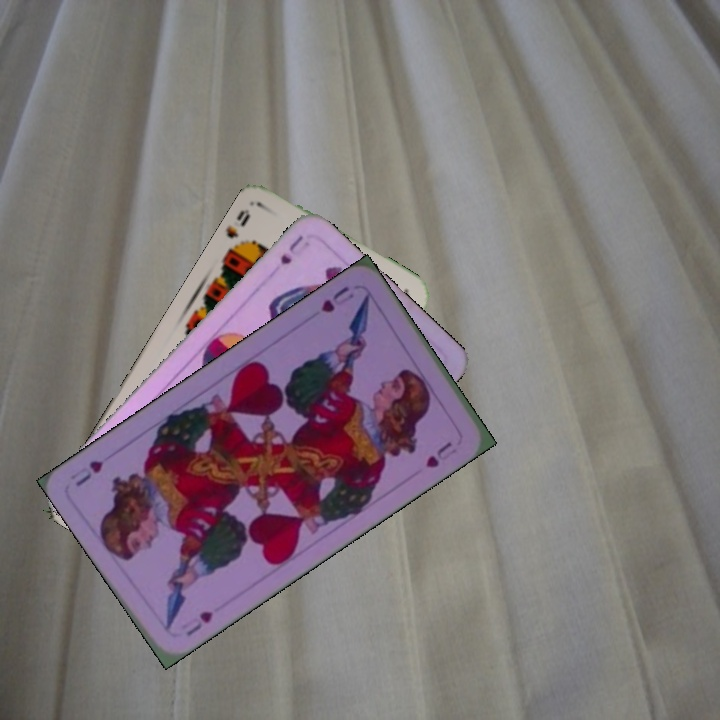HU: (317, 282, 357, 316), (182, 607, 216, 639)
S9: (222, 205, 253, 257)
SU: (276, 231, 306, 268)
